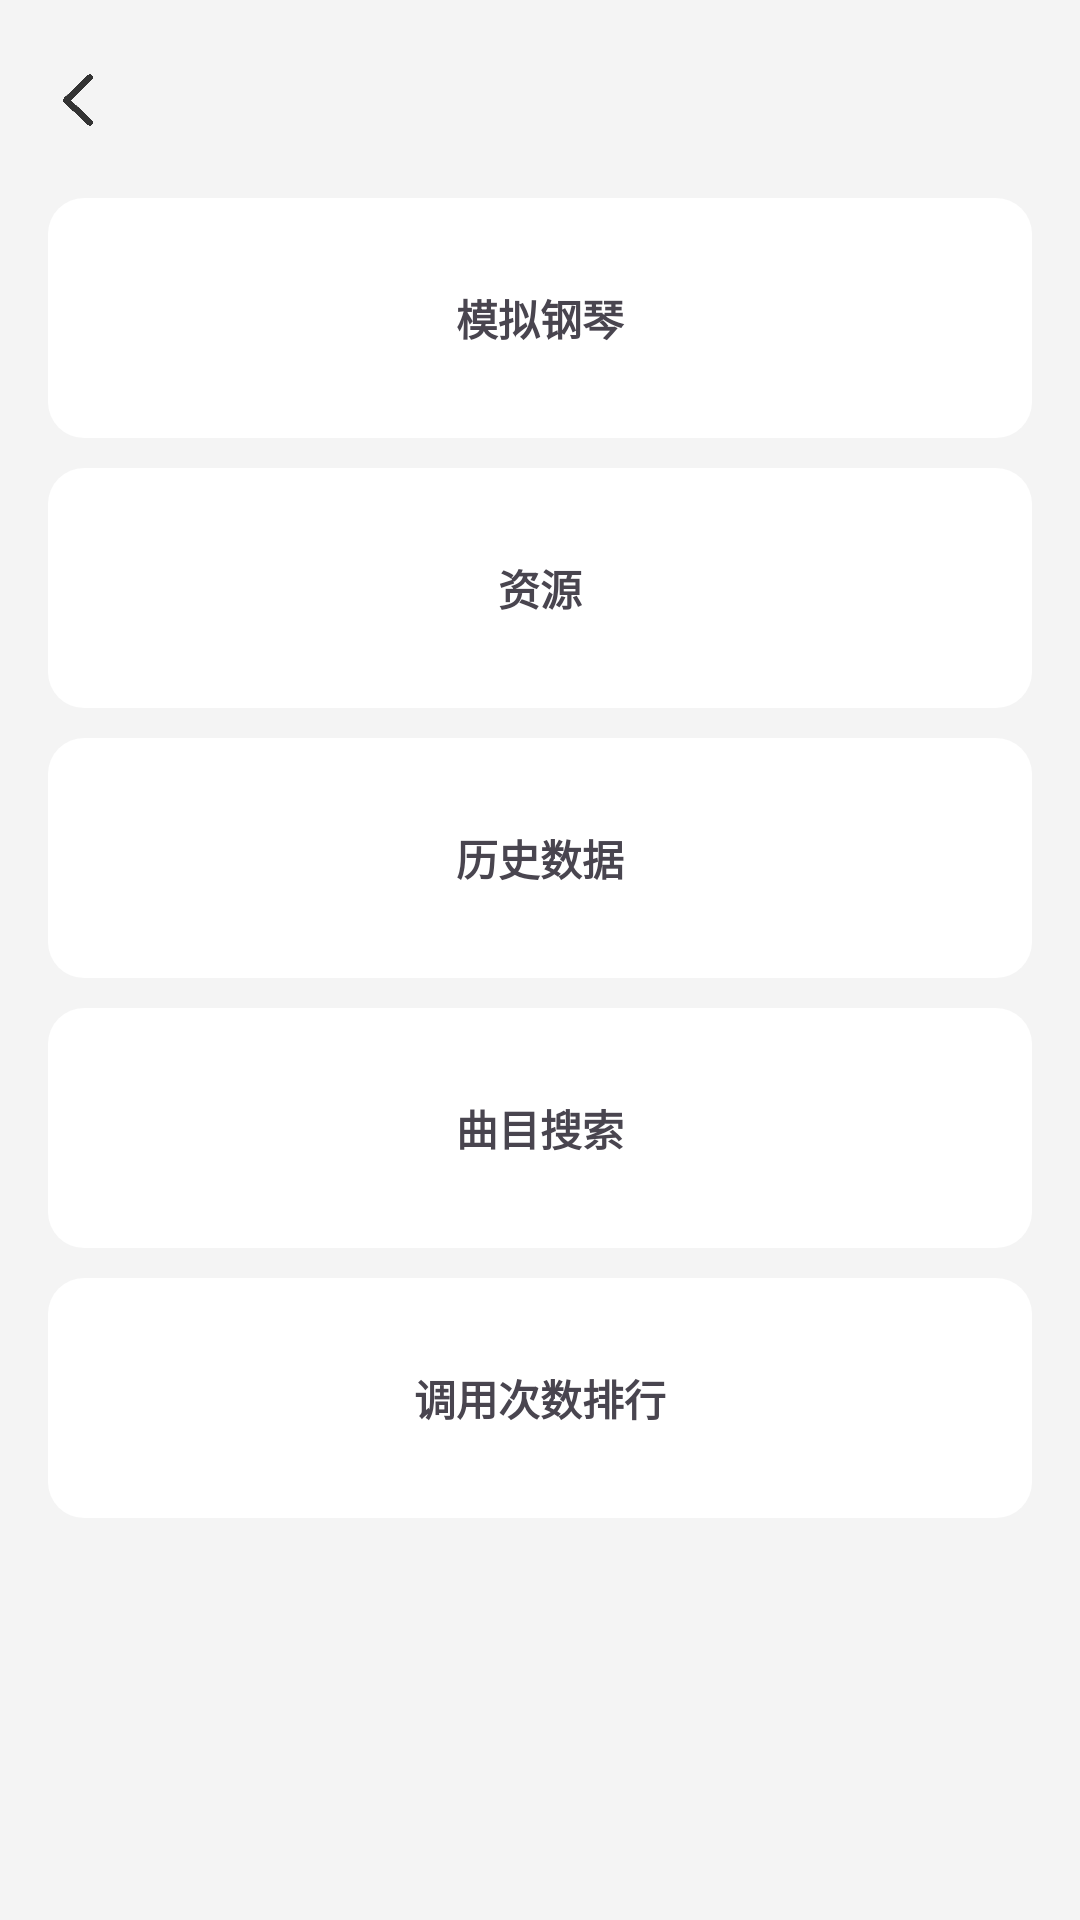

Icons on this 1080 x 1920 Android screen, each with the point to tap as point (x, y):
back: point (78, 100)
